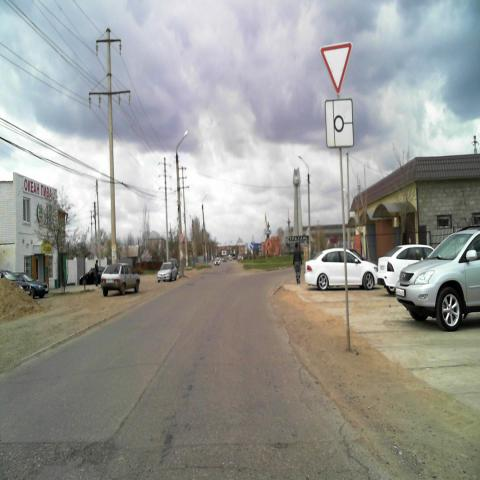8_13_1: (324, 96, 354, 148)
